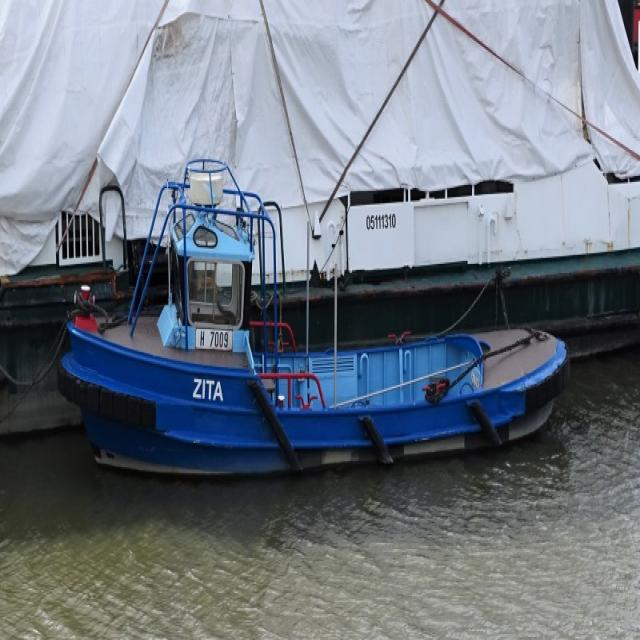tugboat: (51, 153, 574, 488)
